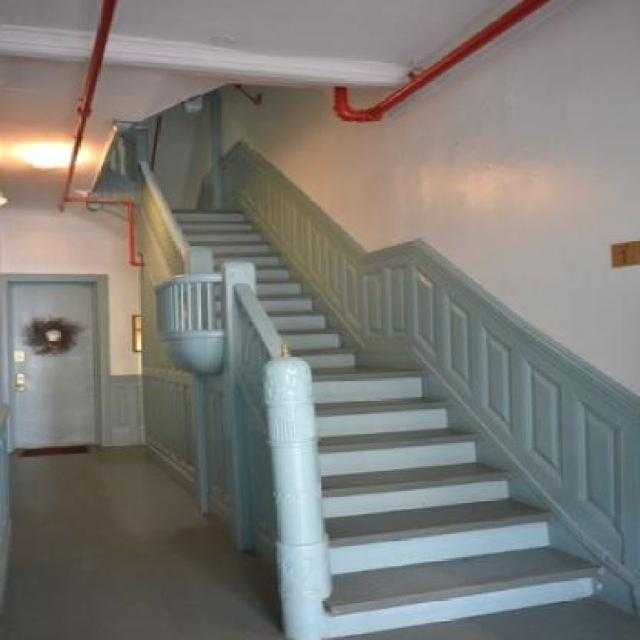stair: (72, 147, 638, 636)
